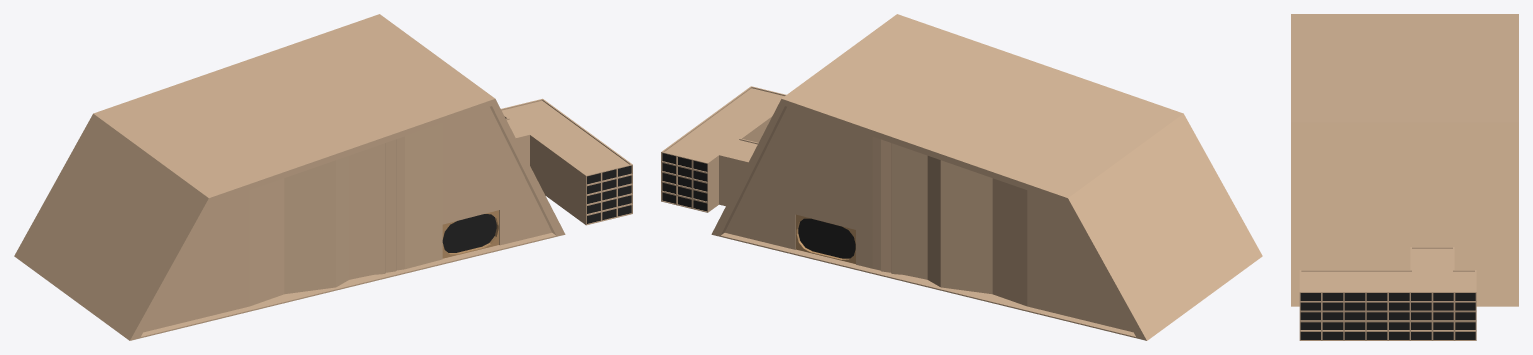
Rendered from auditorum.glb.
3 views of the same model, side by side, from view 1: azimuth 30°, elevation 25°; view 2: azimuth 150°, elevation 25°; view 3: azimuth 270°, elevation 25° (orthographic).
Parts seen in each view (by area): view 1: auditorium.001; view 2: auditorium.001; view 3: auditorium.001.
Part boxes in pixels (x1,y1,x2,y2): auditorium.001: (14, 14, 632, 340); auditorium.001: (661, 14, 1262, 340); auditorium.001: (1291, 14, 1518, 340).
Bounding box in the file's own units: 98.74 × 28.46 × 39.01.
1 material, 1 textured.
